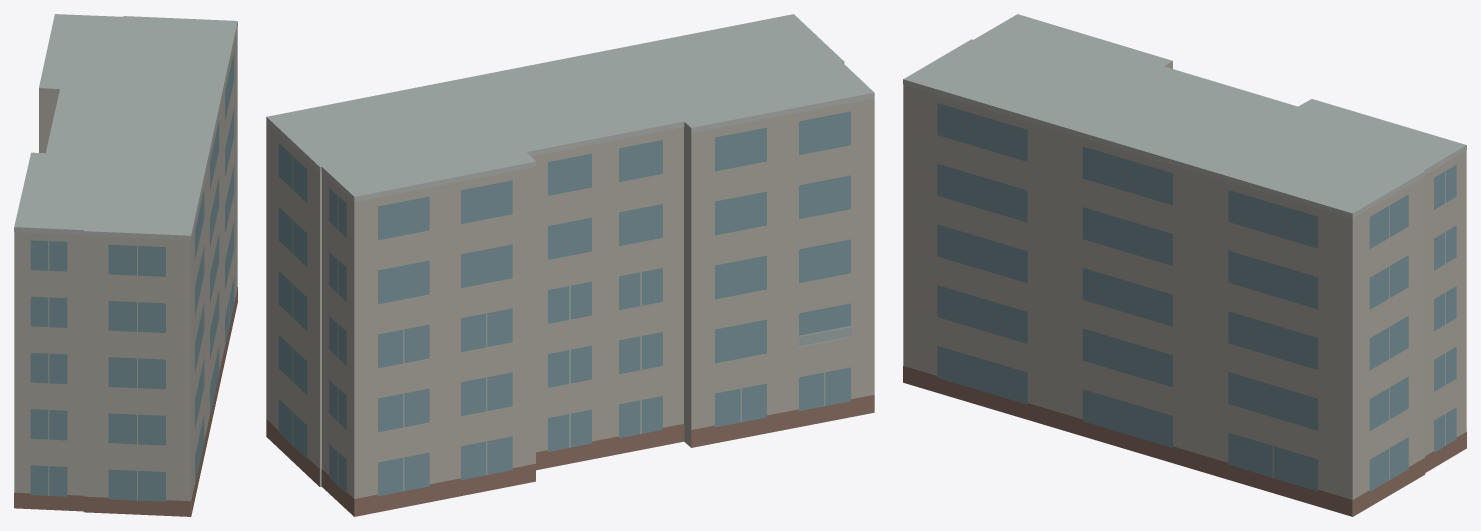
Rendered from survey-upis-32655005.glb.
3 views of the same model, side by side, from view 1: azimuth 30°, elevation 25°; view 2: azimuth 150°, elevation 25°; view 3: azimuth 270°, elevation 25° (orthographic). The views are drawn at different scales.
Visible parts, largest first — view 1: survey-upis-32655005.tmp; view 2: survey-upis-32655005.tmp; view 3: survey-upis-32655005.tmp.
Part boxes in pixels (<box>): survey-upis-32655005.tmp: <box>14,14,237,516</box>; survey-upis-32655005.tmp: <box>266,14,874,516</box>; survey-upis-32655005.tmp: <box>903,14,1466,516</box>.
Size of the model in its own units: 20.25 by 14.35 by 24.17.
